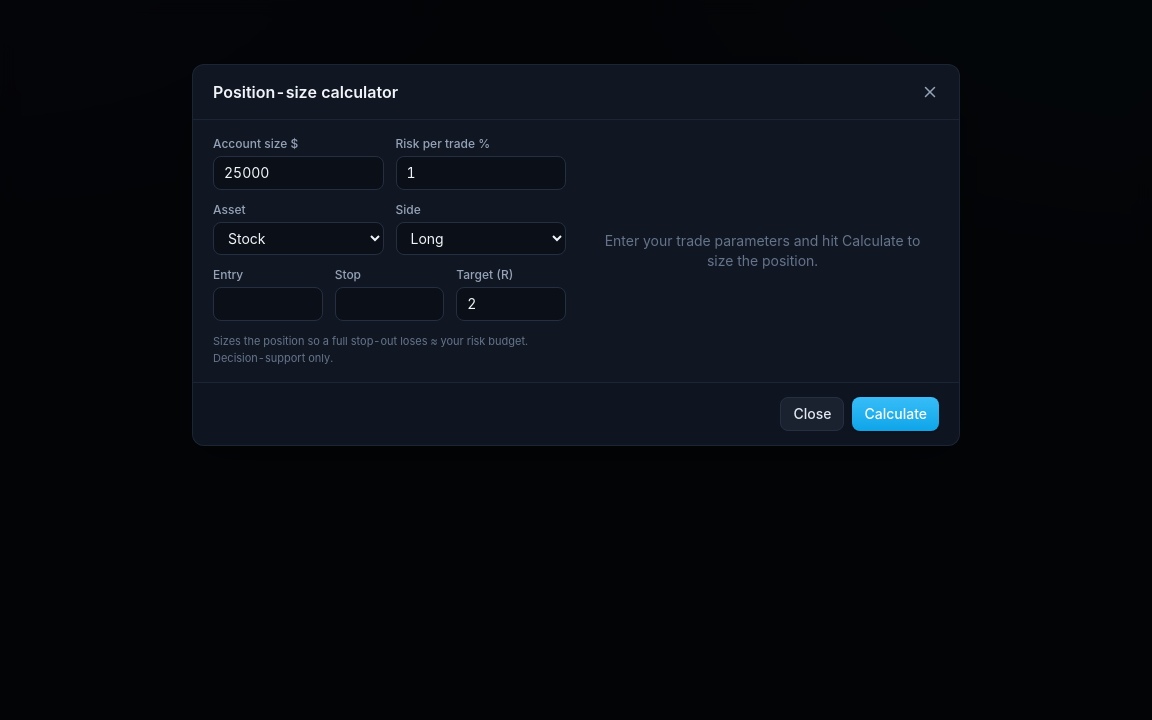
it: RiskSizingModal — defined-risk spread mode › switches to spread inputs and sizes by max loss
The image size is (1152, 720).
Check: the field labelled "Entry" is shown, box left=213, top=287, right=323, bottom=321
Select "Vertical spread" in the dropdown labelled "Asset": point(298, 238) left=213, top=222, right=384, bottom=255
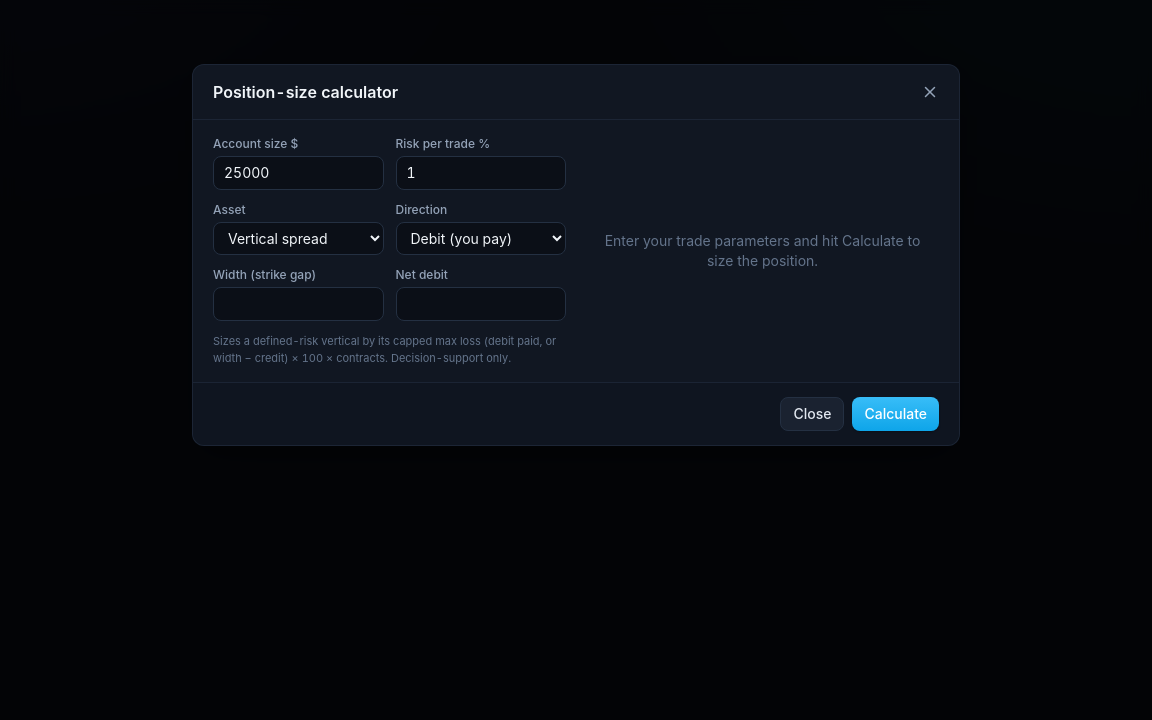
Check: the text labelled "Entry" is gone
In the field labelled "Width (strike gap)": point(298, 304) left=213, top=287, right=384, bottom=321, type "5"
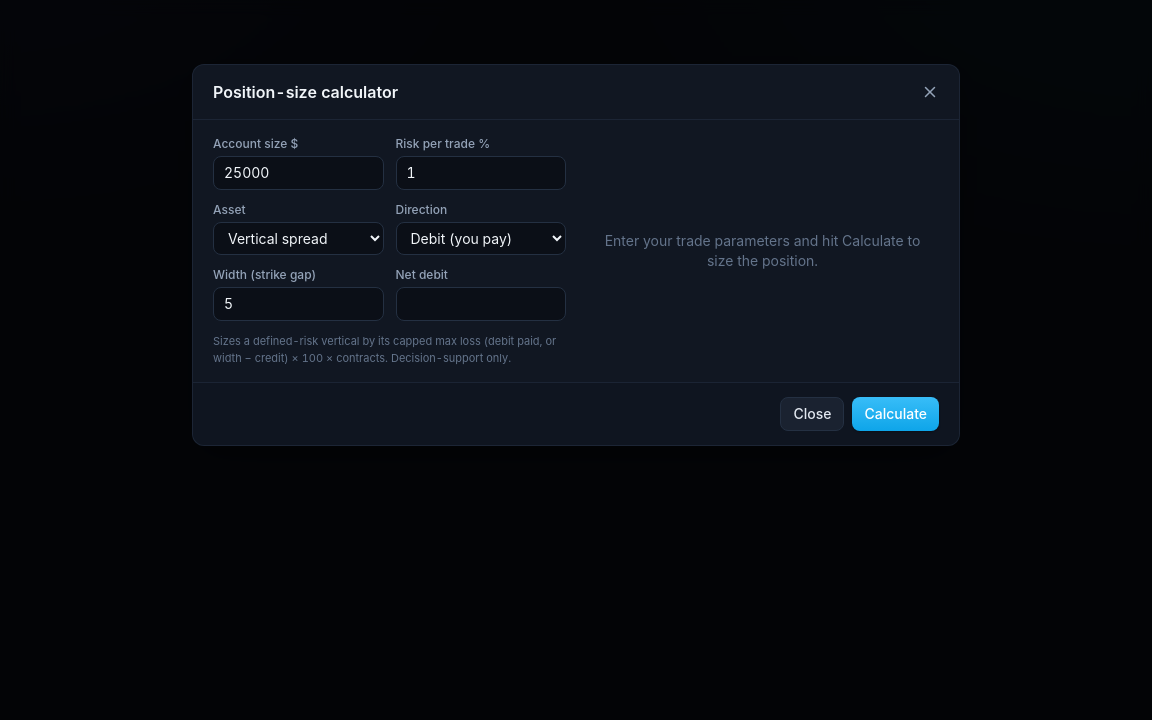
In the field labelled "Net debit": point(481, 304) left=396, top=287, right=566, bottom=321, type "2"
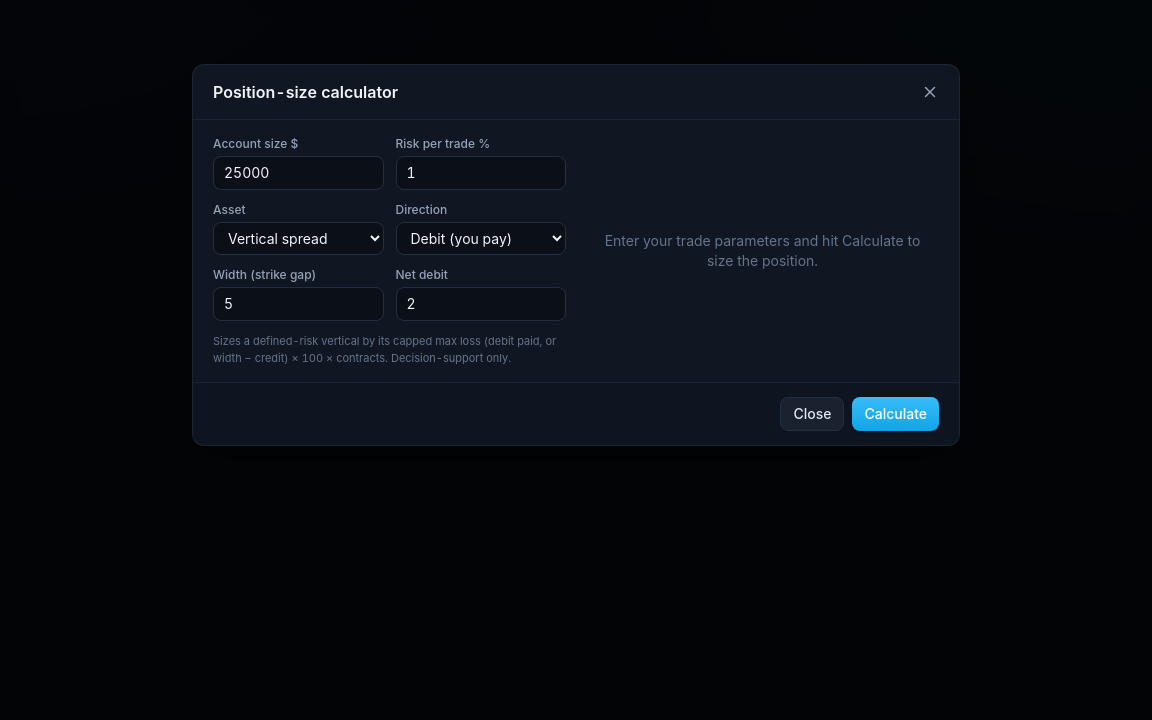
Click the button "Calculate": point(896, 414) left=852, top=397, right=939, bottom=431
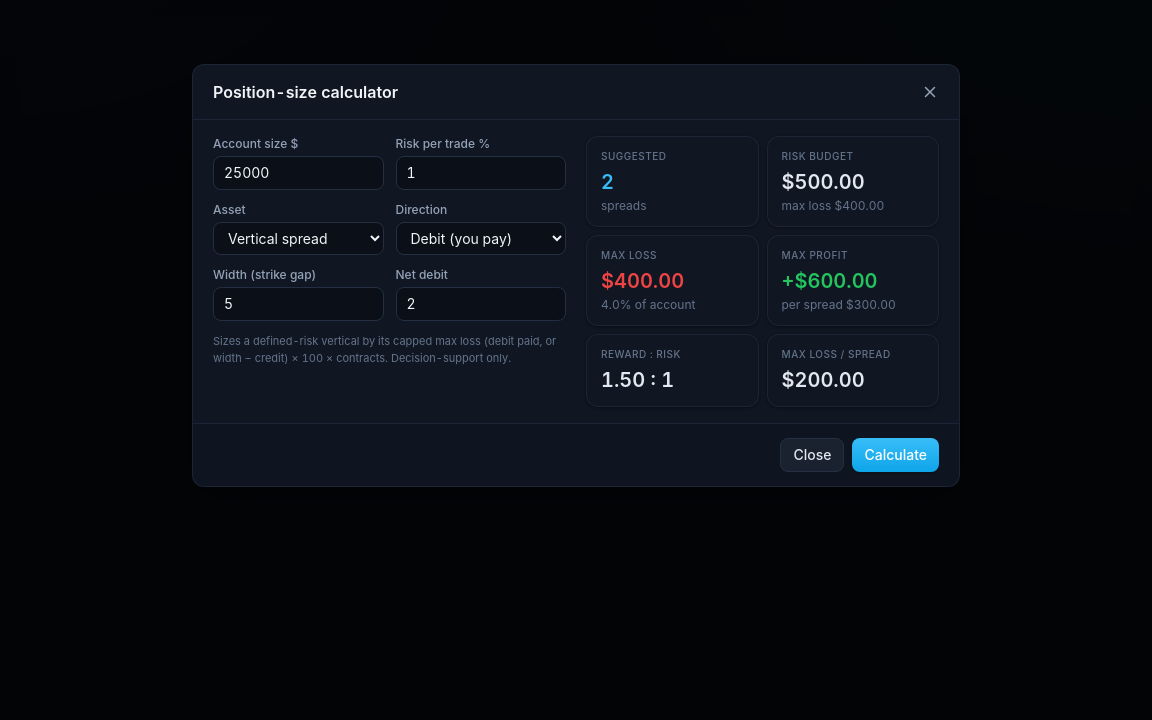
Check: the text "Suggested" is shown, box left=601, top=150, right=666, bottom=162
Check: the text "spreads" is shown, box left=601, top=198, right=646, bottom=213
Check: the text "Reward : risk" is shown, box left=601, top=348, right=681, bottom=360
